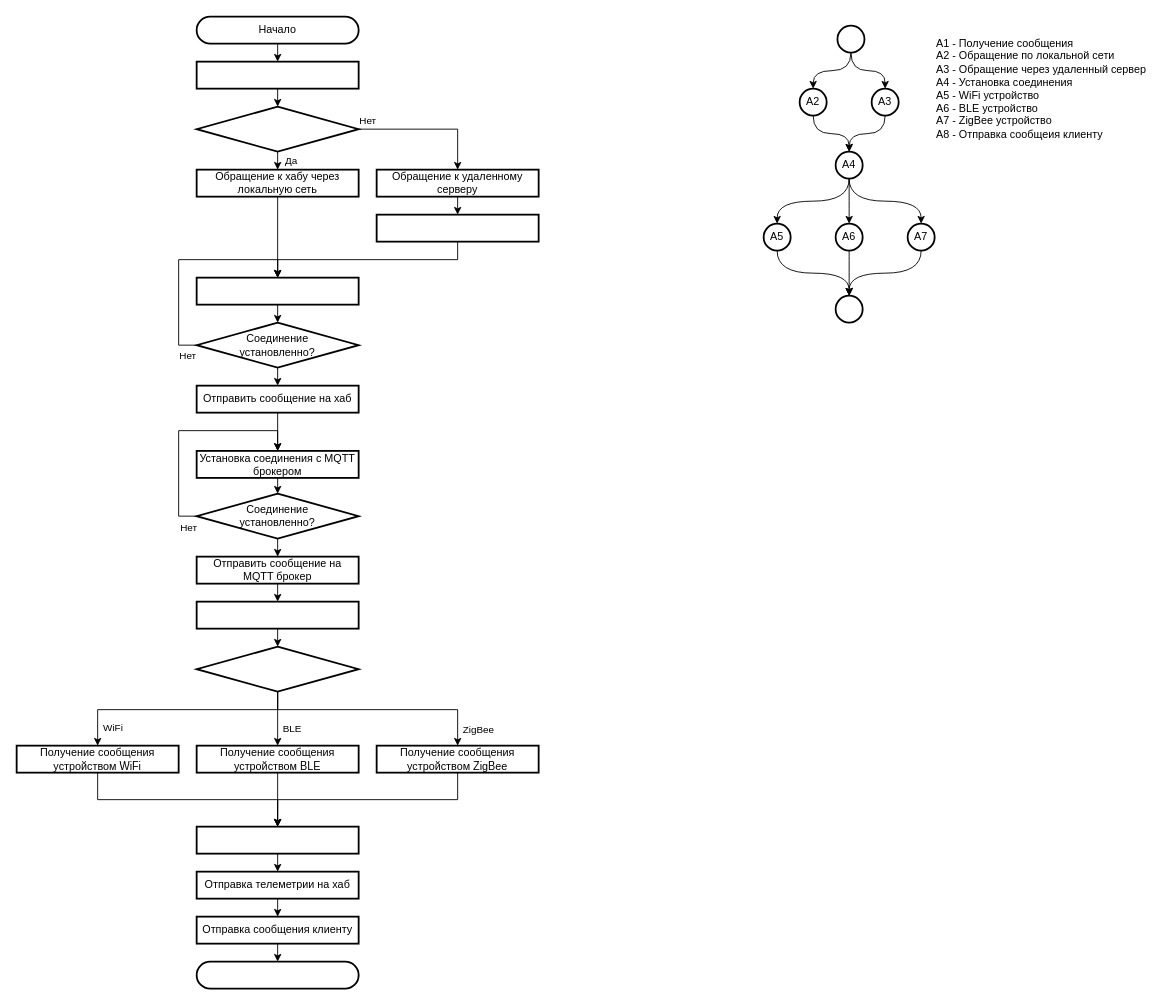
Some shapes in this 1166 by 1004 pixel diagram are drawn without their labels. The centre of each missing label's shape, as x and y in pixels:
A8: the point at 848,308
А1: the point at 850,38
Канал связи: the point at 277,668
Конец: the point at 277,974
Получение режима связи и управляющего сообщения: the point at 277,74
Получение типа канала связи из сообщения: the point at 277,614
Режим связи локальный?: the point at 277,128
Сбор телеметрии MQTT брокером: the point at 277,839
Туннелирование к хабу: the point at 457,227
Установка соединения с хабом: the point at 277,290
